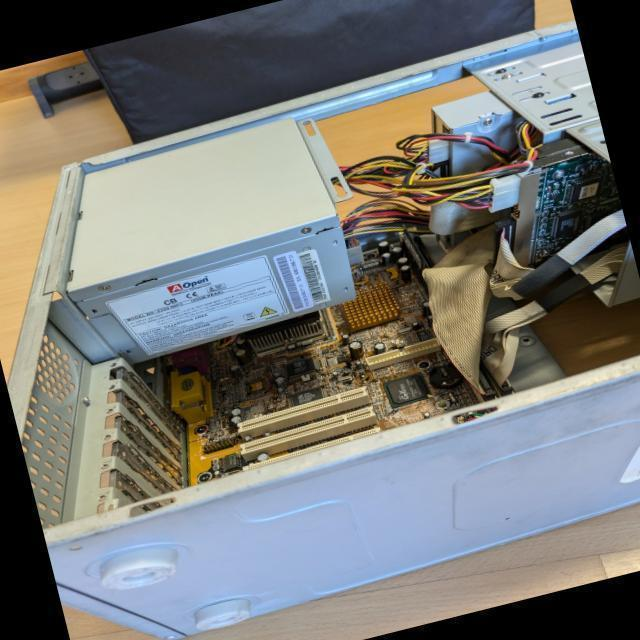CPU_Fan: (245, 309, 330, 356)
DISK: (478, 126, 631, 275)
Mainboard: (139, 217, 519, 488)
PSU: (39, 110, 363, 377)
RAM: (396, 218, 431, 274)
